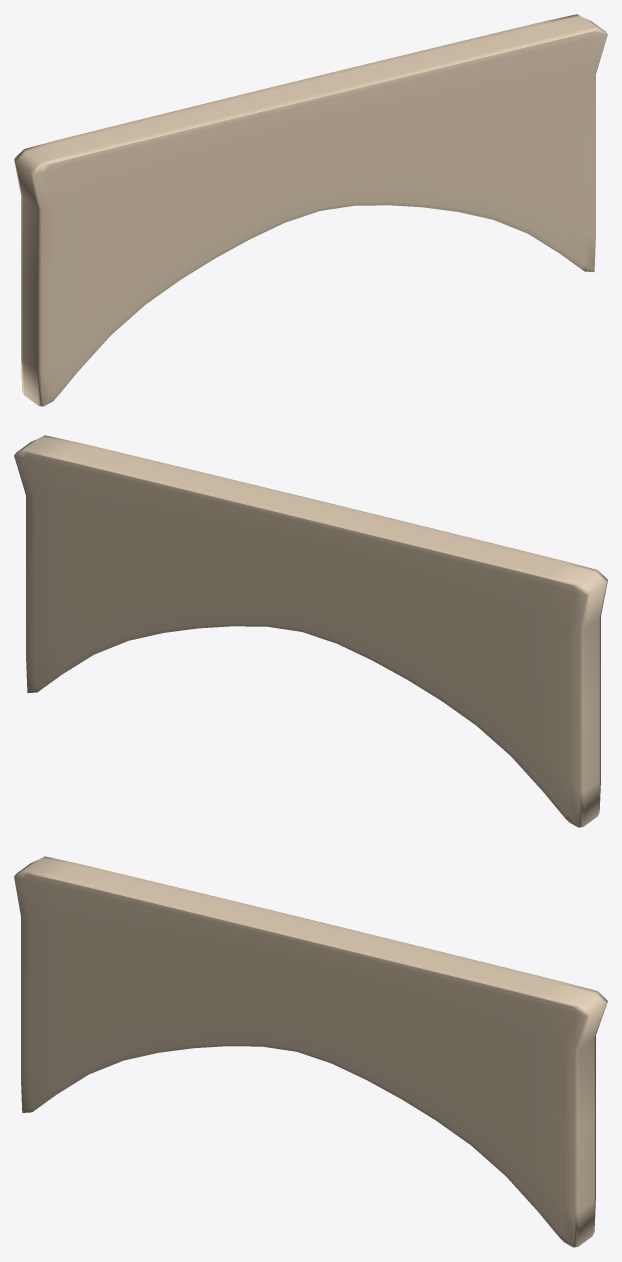
The model's file is Curve_Wall.fbx.
3 views of the same model, one above another, from view 1: azimuth 30°, elevation 25°; view 2: azimuth 150°, elevation 25°; view 3: azimuth 330°, elevation 25° (orthographic).
Parts seen in each view (by area): view 1: Cube.014; view 2: Cube.014; view 3: Cube.014.
Boxes of the visible parts, box(x1,y1,x2,y2) form: Cube.014: box(14, 14, 607, 406); Cube.014: box(14, 435, 607, 827); Cube.014: box(14, 856, 607, 1247).
Bounding box in the file's own units: 245 × 99.31 × 16.97.
